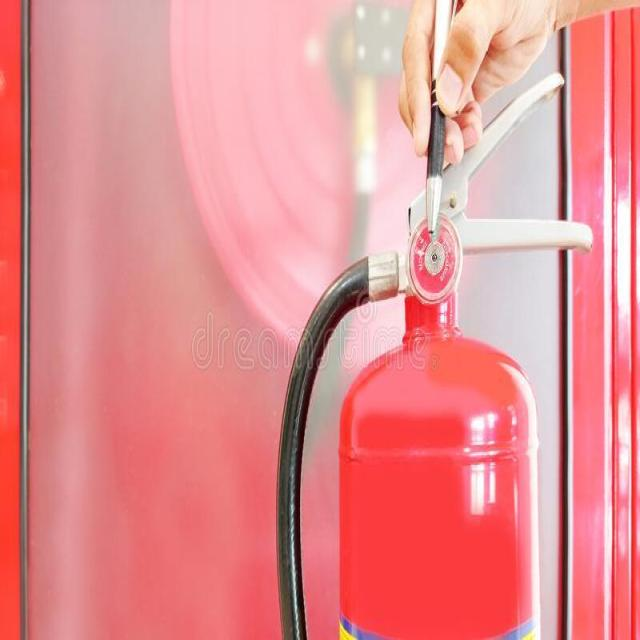fire_extinguisher: (272, 66, 596, 638)
